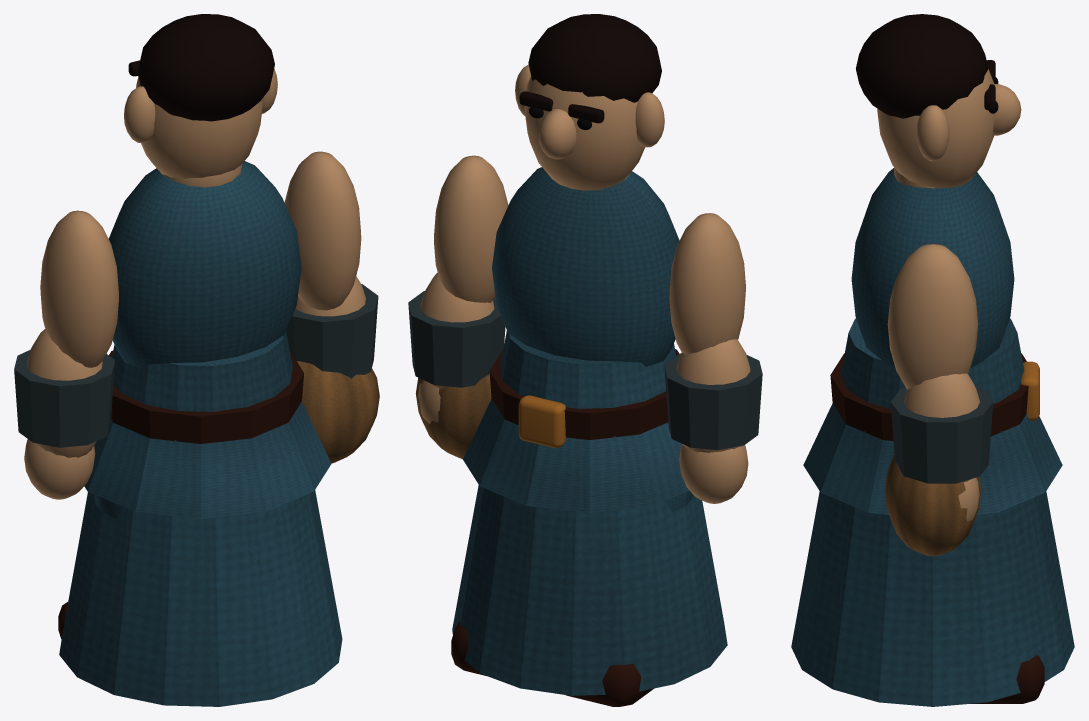
Rendered from warriv.glb.
3 views of the same model, side by side, from view 1: azimuth 30°, elevation 25°; view 2: azimuth 150°, elevation 25°; view 3: azimuth 270°, elevation 25° (orthographic). The views are drawn at different scales.
Parts seen in each view (by area): view 1: Layered skirt, Upper arm, Brow.001, Upper arm.001, Neck, Bracer, Waist belt, Travel satchel, Bracer.001; view 2: Layered skirt, Upper arm, Upper arm.001, Neck, Brow.001, Bracer, Bracer.001, Waist belt, Travel satchel, Belt clasp, Foot, Foot.001; view 3: Layered skirt, Upper arm.001, Brow.001, Neck, Bracer.001, Travel satchel, Waist belt, Foot.001, Belt clasp.
Boxes of the visible parts, x1,y1,x2,y2 form: Layered skirt: [59, 161, 342, 706]; Upper arm: [24, 210, 118, 499]; Brow.001: [128, 14, 274, 121]; Upper arm.001: [284, 151, 365, 316]; Neck: [124, 68, 277, 187]; Bracer: [14, 349, 115, 447]; Waist belt: [109, 350, 303, 443]; Travel satchel: [297, 361, 379, 463]; Bracer.001: [286, 284, 378, 378]; Layered skirt: [452, 167, 727, 695]; Upper arm: [669, 213, 750, 503]; Upper arm.001: [418, 155, 508, 423]; Neck: [515, 64, 664, 190]; Brow.001: [519, 14, 661, 123]; Bracer: [664, 353, 762, 450]; Bracer.001: [408, 291, 505, 387]; Waist belt: [489, 349, 679, 439]; Travel satchel: [415, 373, 491, 459]; Belt clasp: [518, 395, 565, 447]; Foot: [566, 663, 654, 706]; Foot.001: [451, 621, 485, 675]; Layered skirt: [791, 168, 1074, 706]; Upper arm.001: [887, 244, 979, 521]; Brow.001: [856, 14, 995, 118]; Neck: [877, 69, 1021, 188]; Bracer.001: [890, 386, 993, 483]; Travel satchel: [884, 454, 981, 555]; Waist belt: [830, 353, 1028, 440]; Foot.001: [971, 655, 1044, 703]; Belt clasp: [1021, 361, 1039, 421].
Bounding box in the file's own units: 1.32 × 2.38 × 0.94.
Materials: 8 (2 with a texture image).
